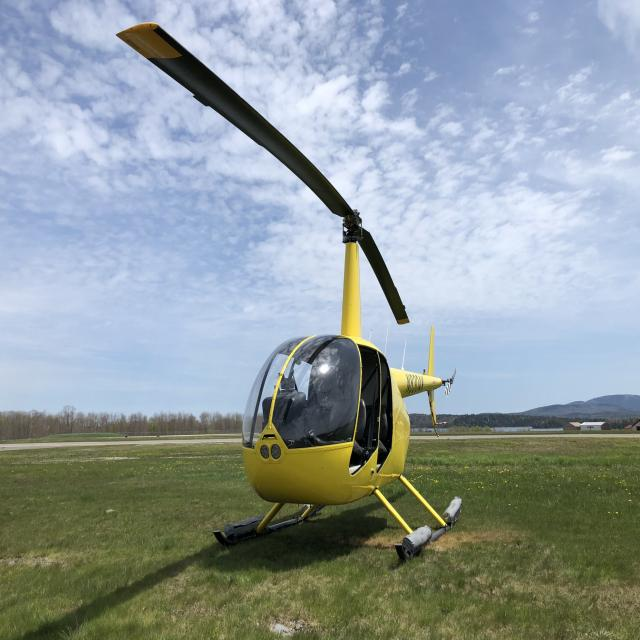helicopter: (98, 48, 476, 577)
